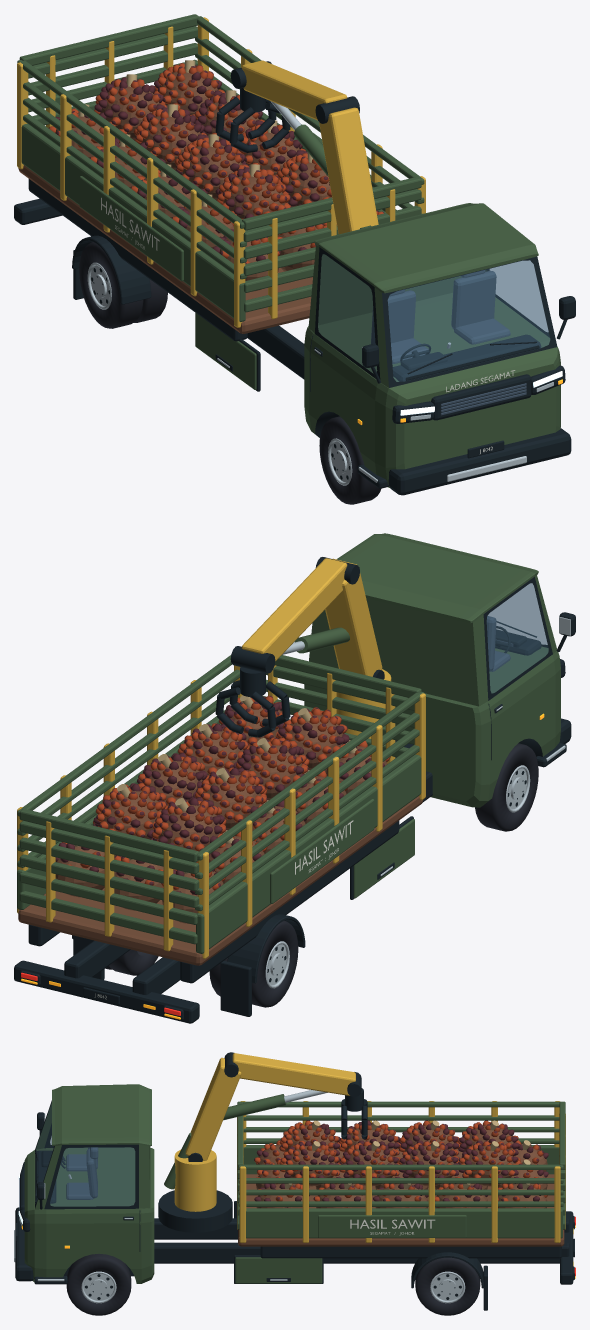
3 renders of one model, top to bottom at view 1: azimuth 30°, elevation 25°; view 2: azimuth 150°, elevation 25°; view 3: azimuth 270°, elevation 25°, orthographic. The views are drawn at different scales.
Visible parts, largest first — view 1: Segamat Palm Fruit Grapple Lorry; view 2: Segamat Palm Fruit Grapple Lorry; view 3: Segamat Palm Fruit Grapple Lorry.
Boxes of the visible parts, x1,y1,x2,y2 form: Segamat Palm Fruit Grapple Lorry: (14, 14, 575, 504); Segamat Palm Fruit Grapple Lorry: (14, 533, 575, 1023); Segamat Palm Fruit Grapple Lorry: (14, 1052, 575, 1315).
Size of the model in its own units: 2.62 by 3.74 by 8.31.
